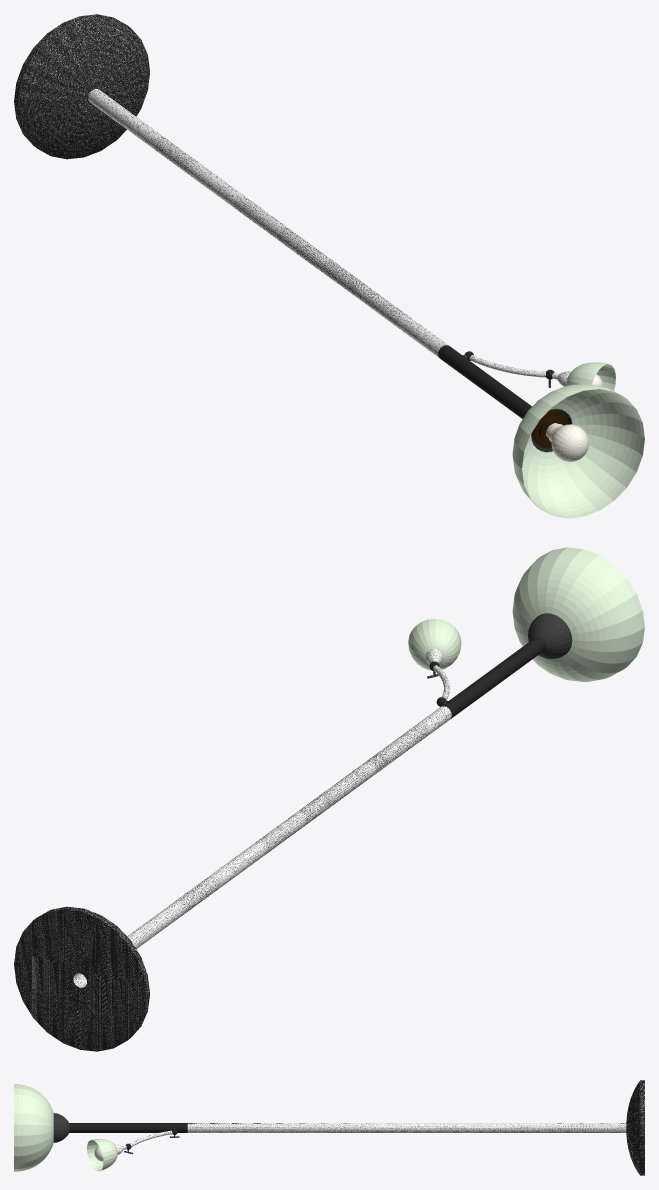
3 views of the same model, one above another, from view 1: azimuth 30°, elevation 25°; view 2: azimuth 150°, elevation 25°; view 3: azimuth 270°, elevation 25° (orthographic). The views are drawn at different scales.
Parts seen in each view (by area): view 1: floor lamp; view 2: floor lamp; view 3: floor lamp.
Boxes of the visible parts, box(x1,y1,x2,y2) form: floor lamp: box(14, 14, 644, 518); floor lamp: box(14, 547, 644, 1051); floor lamp: box(14, 1080, 644, 1175).
Bounding box in the file's own units: 14.21 × 11.07 × 72.88.
